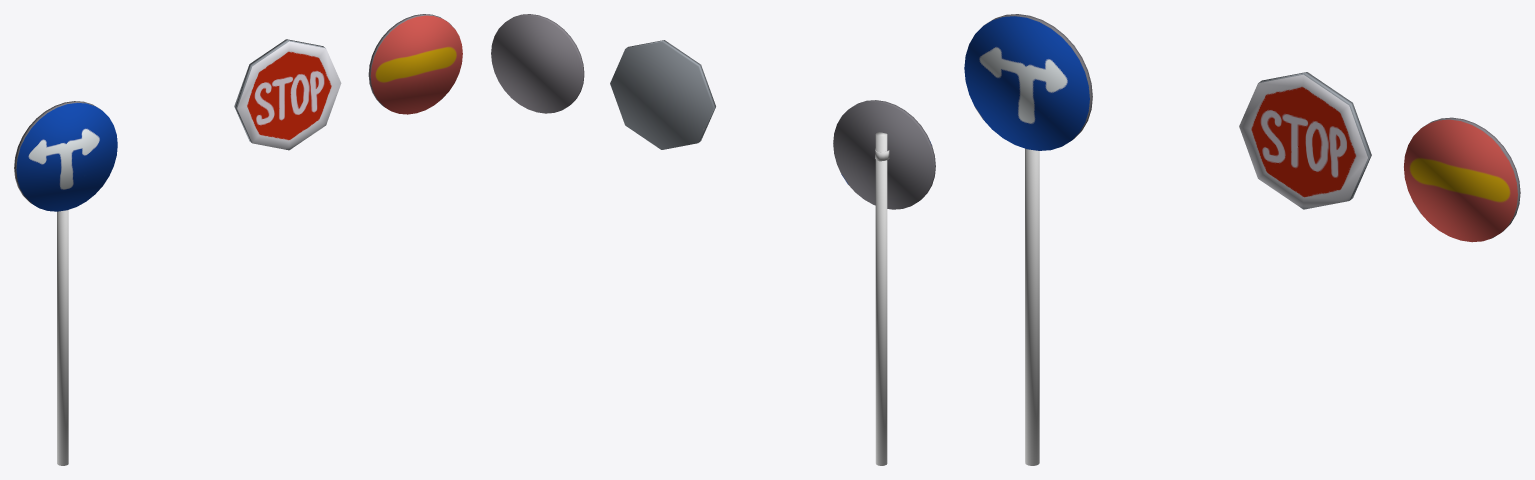
Rendered from only left and right allowed.glb.
3 views of the same model, side by side, from view 1: azimuth 30°, elevation 25°; view 2: azimuth 150°, elevation 25°; view 3: azimuth 330°, elevation 25° (orthographic). The views are drawn at different scales.
Visible parts, largest first — view 1: Circle, Cylinder.001, Circle.001, Cylinder; view 2: Cylinder.001, Circle, Circle.001, Cylinder; view 3: Circle, Cylinder.001, Circle.001, Cylinder.
Part boxes in pixels (<box>): Circle: <box>14,101,117,211</box>; Cylinder.001: <box>234,39,341,150</box>; Circle.001: <box>368,14,462,114</box>; Cylinder: <box>57,210,68,465</box>; Cylinder.001: <box>610,40,715,149</box>; Circle: <box>833,100,935,209</box>; Circle.001: <box>491,14,584,113</box>; Cylinder: <box>875,132,887,465</box>; Circle: <box>964,14,1092,150</box>; Cylinder.001: <box>1239,72,1371,209</box>; Circle.001: <box>1404,117,1520,242</box>; Cylinder: <box>1025,148,1039,465</box>.
Size of the model in its own units: 14.04 by 11.13 by 0.4093.
4 materials, 3 textured.
